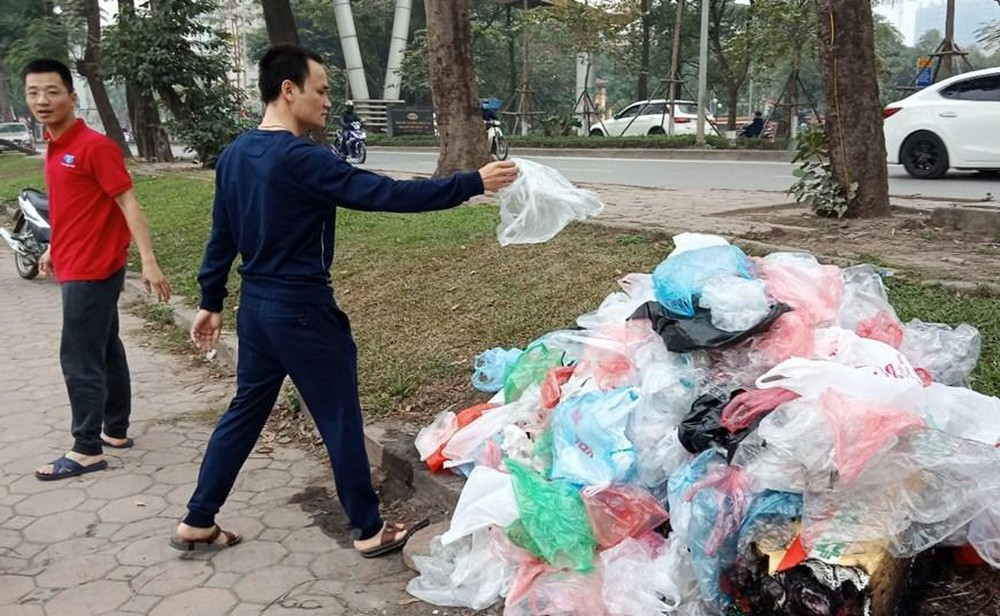plastic bag: (401, 230, 1000, 616), (493, 153, 603, 247)
